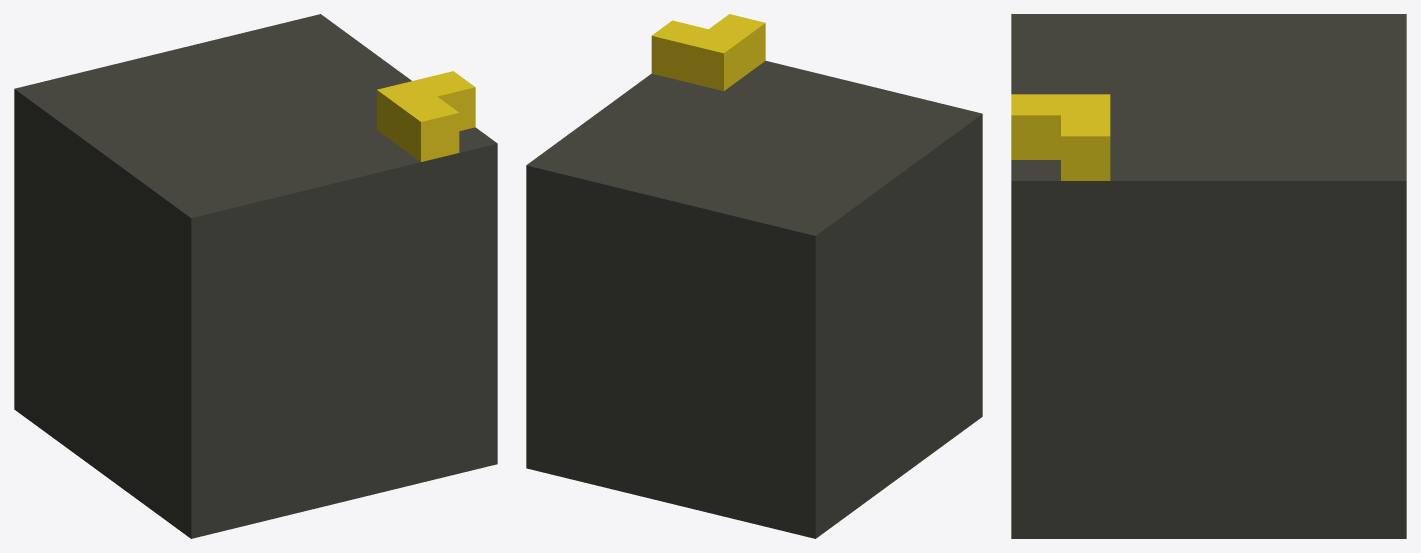
The model's file is ShortCornerBorder.fbx.
The picture shows the model from 3 angles, left to right: view 1: azimuth 30°, elevation 25°; view 2: azimuth 150°, elevation 25°; view 3: azimuth 270°, elevation 25°; orthographic projection. The views are drawn at different scales.
Parts seen in each view (by area): view 1: Border, Outline; view 2: Border, Outline; view 3: Border, Outline.
Part boxes in pixels (<box>): Border: <box>14,14,497,538</box>; Outline: <box>377,71,475,161</box>; Border: <box>526,61,982,538</box>; Outline: <box>651,14,765,91</box>; Border: <box>1011,14,1406,538</box>; Outline: <box>1011,94,1110,180</box>.
Bounding box in the file's own units: 100 × 112 × 100.
